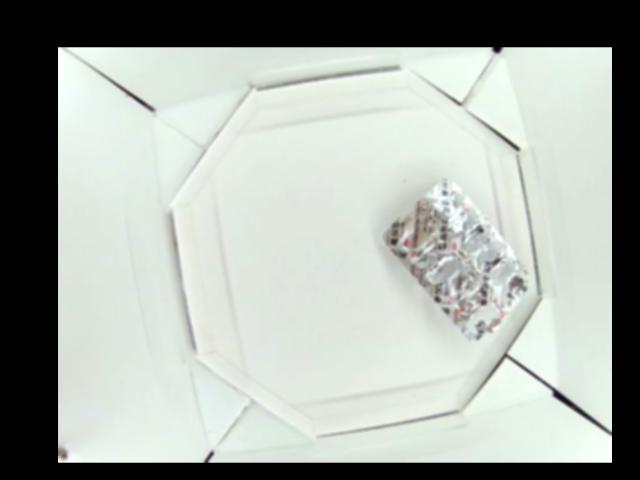Medicine: (379, 172, 530, 340)
